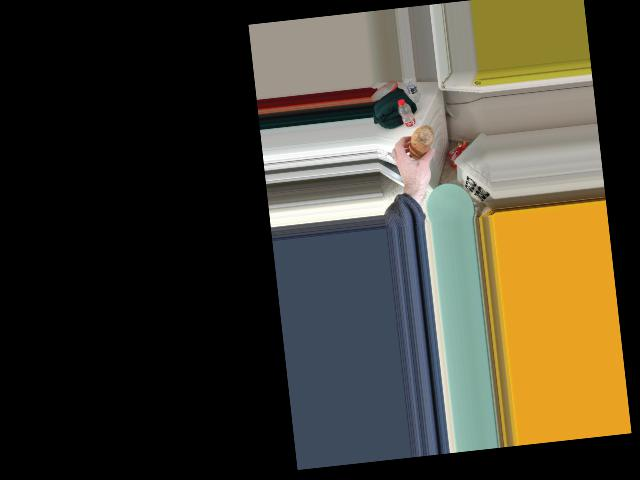sweet_potato: (404, 124, 436, 161)
